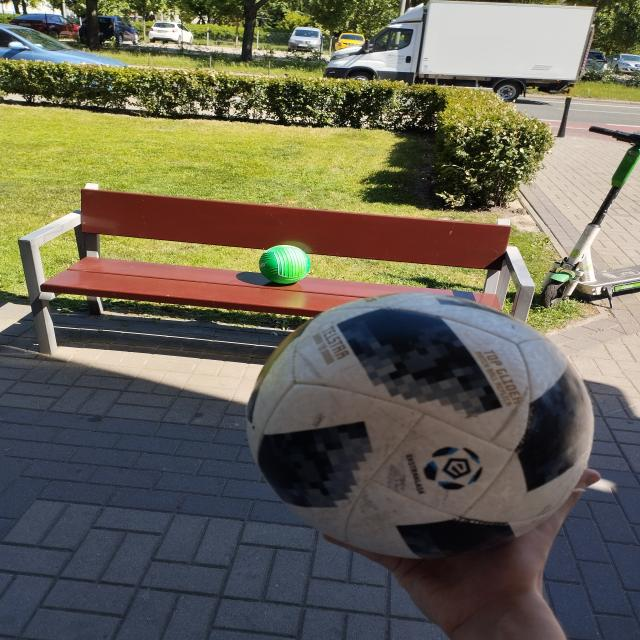nozna: (244, 293, 595, 559)
zielona: (259, 245, 311, 284)
